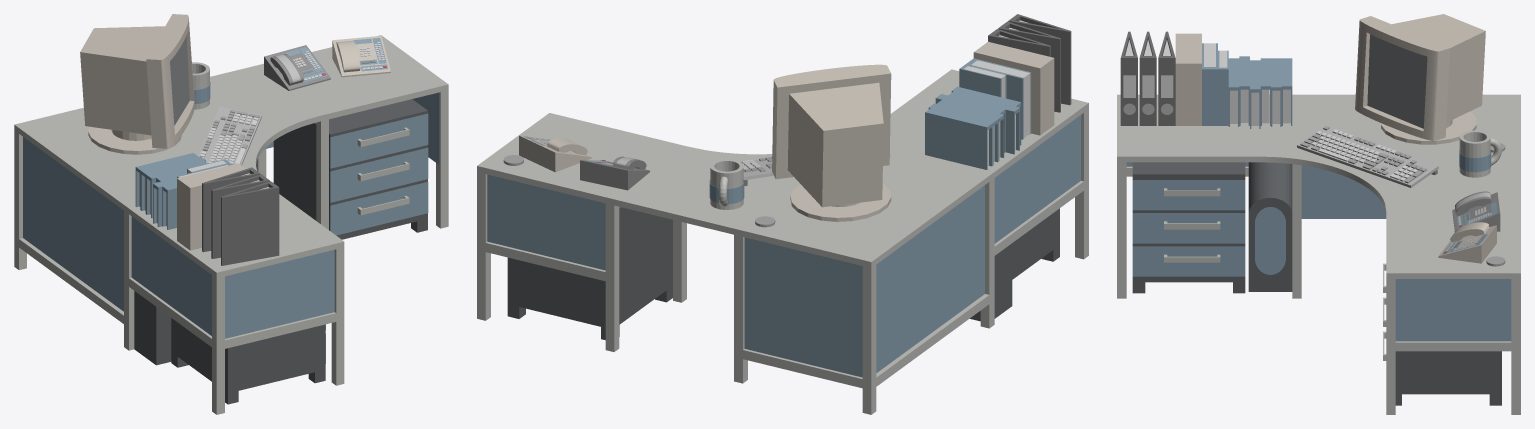
Rendered from EscritorioOficina2.glb.
The picture shows the model from 3 angles, left to right: view 1: azimuth 30°, elevation 25°; view 2: azimuth 150°, elevation 25°; view 3: azimuth 270°, elevation 25°; orthographic projection. The views are drawn at different scales.
Parts seen in each view (by area): view 1: Mesh_Mesh_head_geo.001_lambert2SG.001; view 2: Mesh_Mesh_head_geo.001_lambert2SG.001; view 3: Mesh_Mesh_head_geo.001_lambert2SG.001.
Part boxes in pixels (<box>): Mesh_Mesh_head_geo.001_lambert2SG.001: <box>14,14,448,414</box>; Mesh_Mesh_head_geo.001_lambert2SG.001: <box>477,14,1088,414</box>; Mesh_Mesh_head_geo.001_lambert2SG.001: <box>1117,14,1520,414</box>.
Size of the model in its own units: 67.5 by 44 by 64.5.
